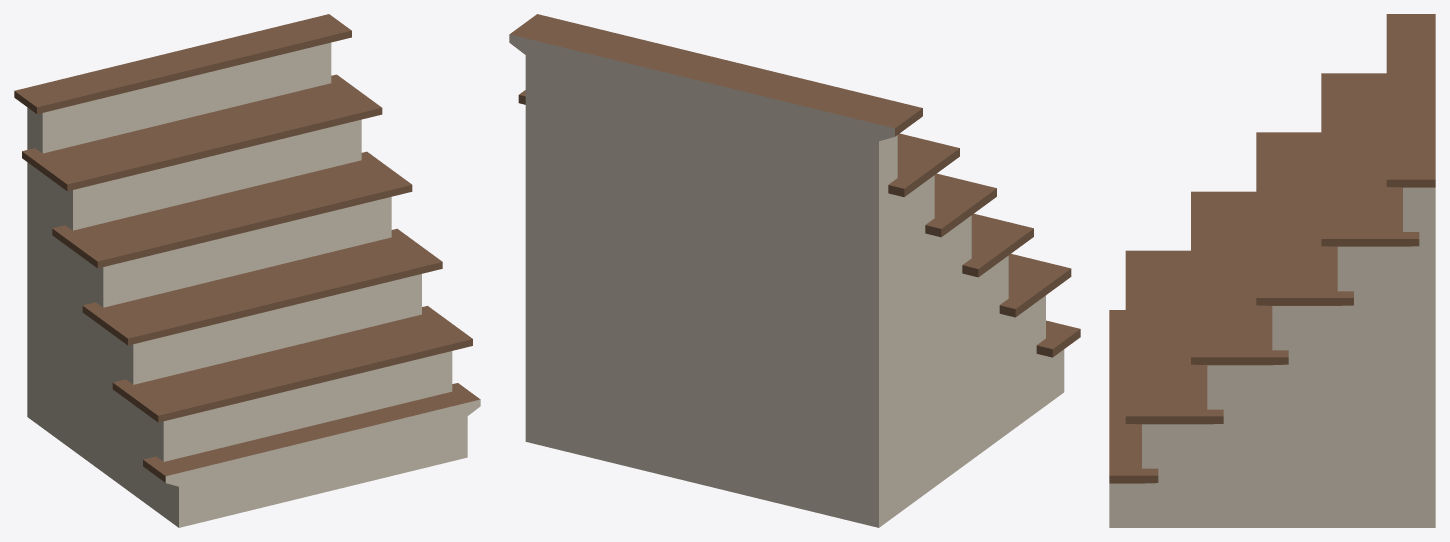
Rendered from Structure_Stairs_Straight.obj.
3 renders of one model, left to right at view 1: azimuth 30°, elevation 25°; view 2: azimuth 150°, elevation 25°; view 3: azimuth 270°, elevation 25°, orthographic. The views are drawn at different scales.
Parts seen in each view (by area): view 1: object1; view 2: object1; view 3: object1.
Boxes of the visible parts, bbox=[...] form: object1: bbox=[14, 14, 480, 527]; object1: bbox=[509, 14, 1080, 527]; object1: bbox=[1109, 14, 1435, 527].
Size of the model in its own units: 1.2 by 1.2 by 1.
